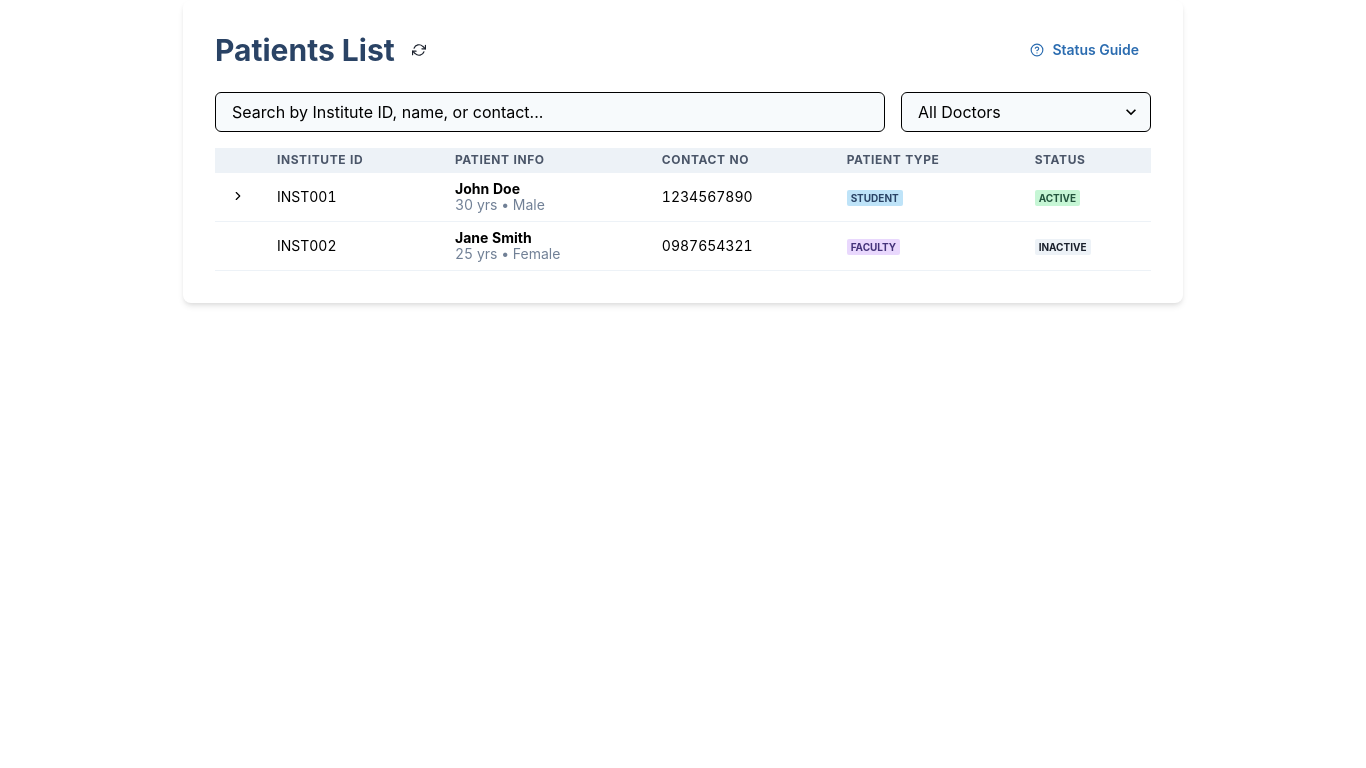
Test case: PatientsList Component › opens status guide modal when button is clicked
This screenshot has width=1366, height=768.
Expected: the text "John Doe" is shown, [455, 180, 520, 197]
Click the button "Status Guide": coordinates (1085, 50) [1018, 34, 1151, 66]
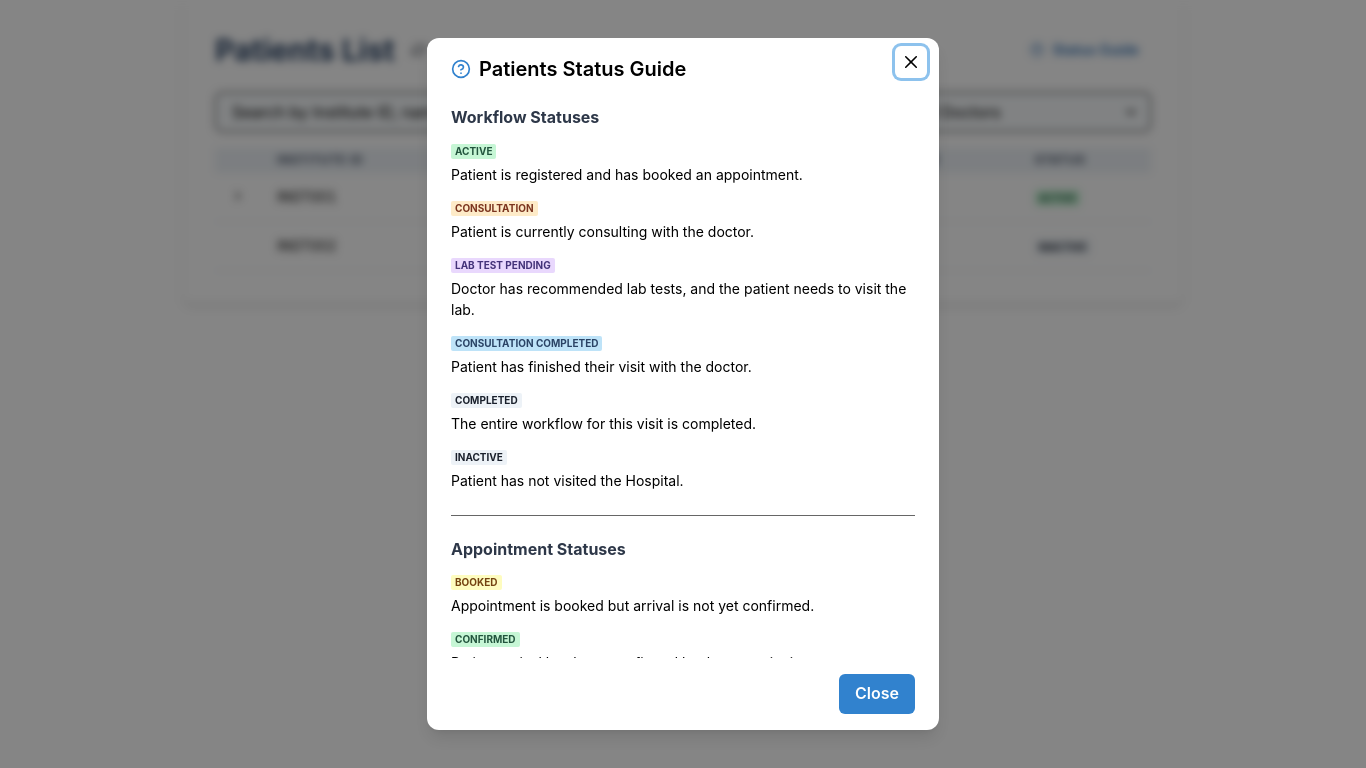
Expected: the text "Patients Status Guide" is shown, [451, 57, 686, 81]
